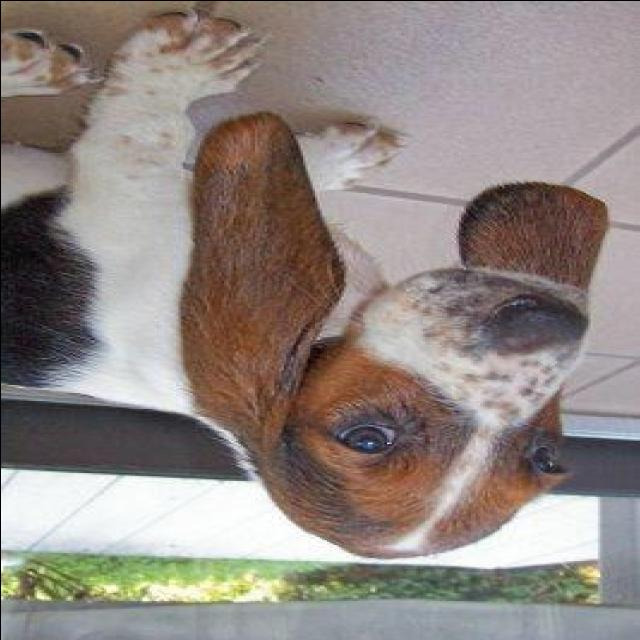basset: (0, 11, 609, 557)
